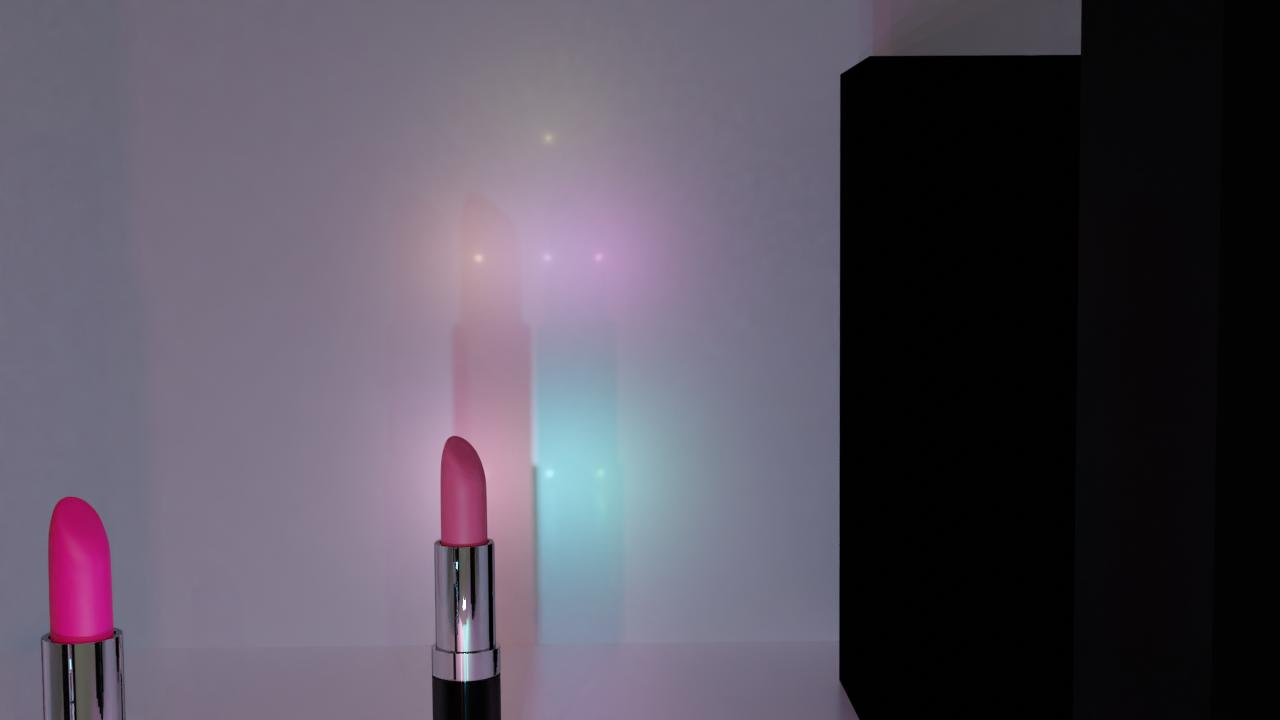CLASSIFIER_NAME: (37, 490, 141, 720), (430, 431, 503, 720)
